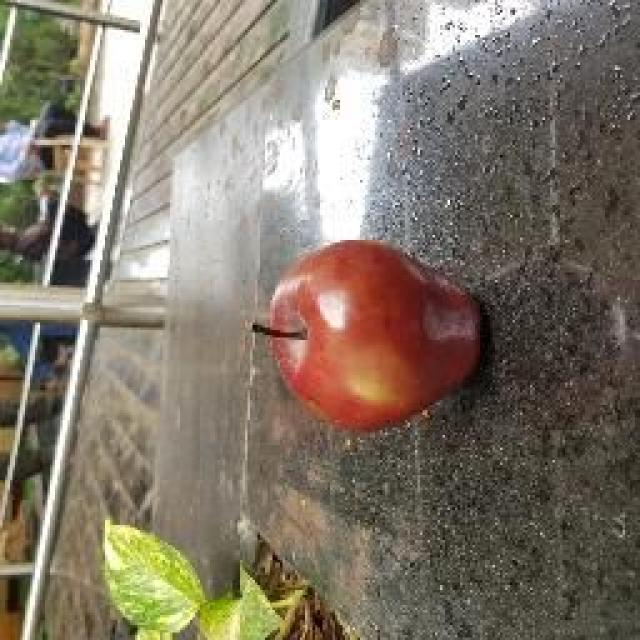Good_Apple: (252, 240, 490, 435)
